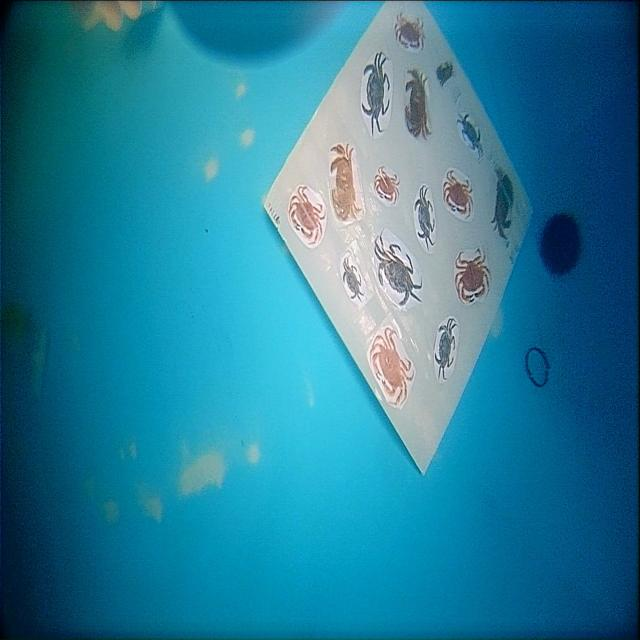GreenCrab: (374, 235, 422, 307), (361, 52, 390, 136), (435, 318, 457, 379), (414, 185, 434, 248)
